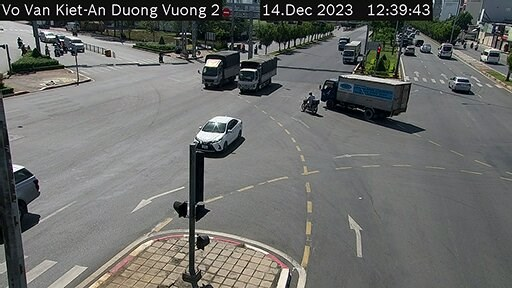car: (9, 155, 50, 227), (199, 113, 246, 156), (448, 74, 470, 99), (483, 44, 503, 64), (439, 43, 457, 60)
motorbike: (301, 92, 322, 117)
truck: (312, 71, 422, 120), (198, 49, 237, 90), (236, 52, 271, 95), (344, 38, 360, 66), (64, 37, 89, 53), (337, 36, 353, 53)
